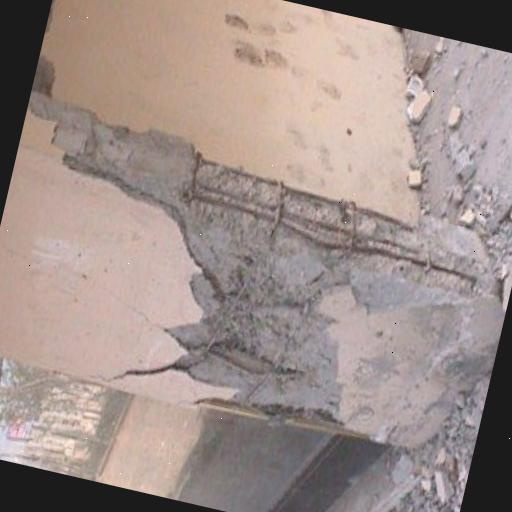spalling: (48, 100, 485, 432)
